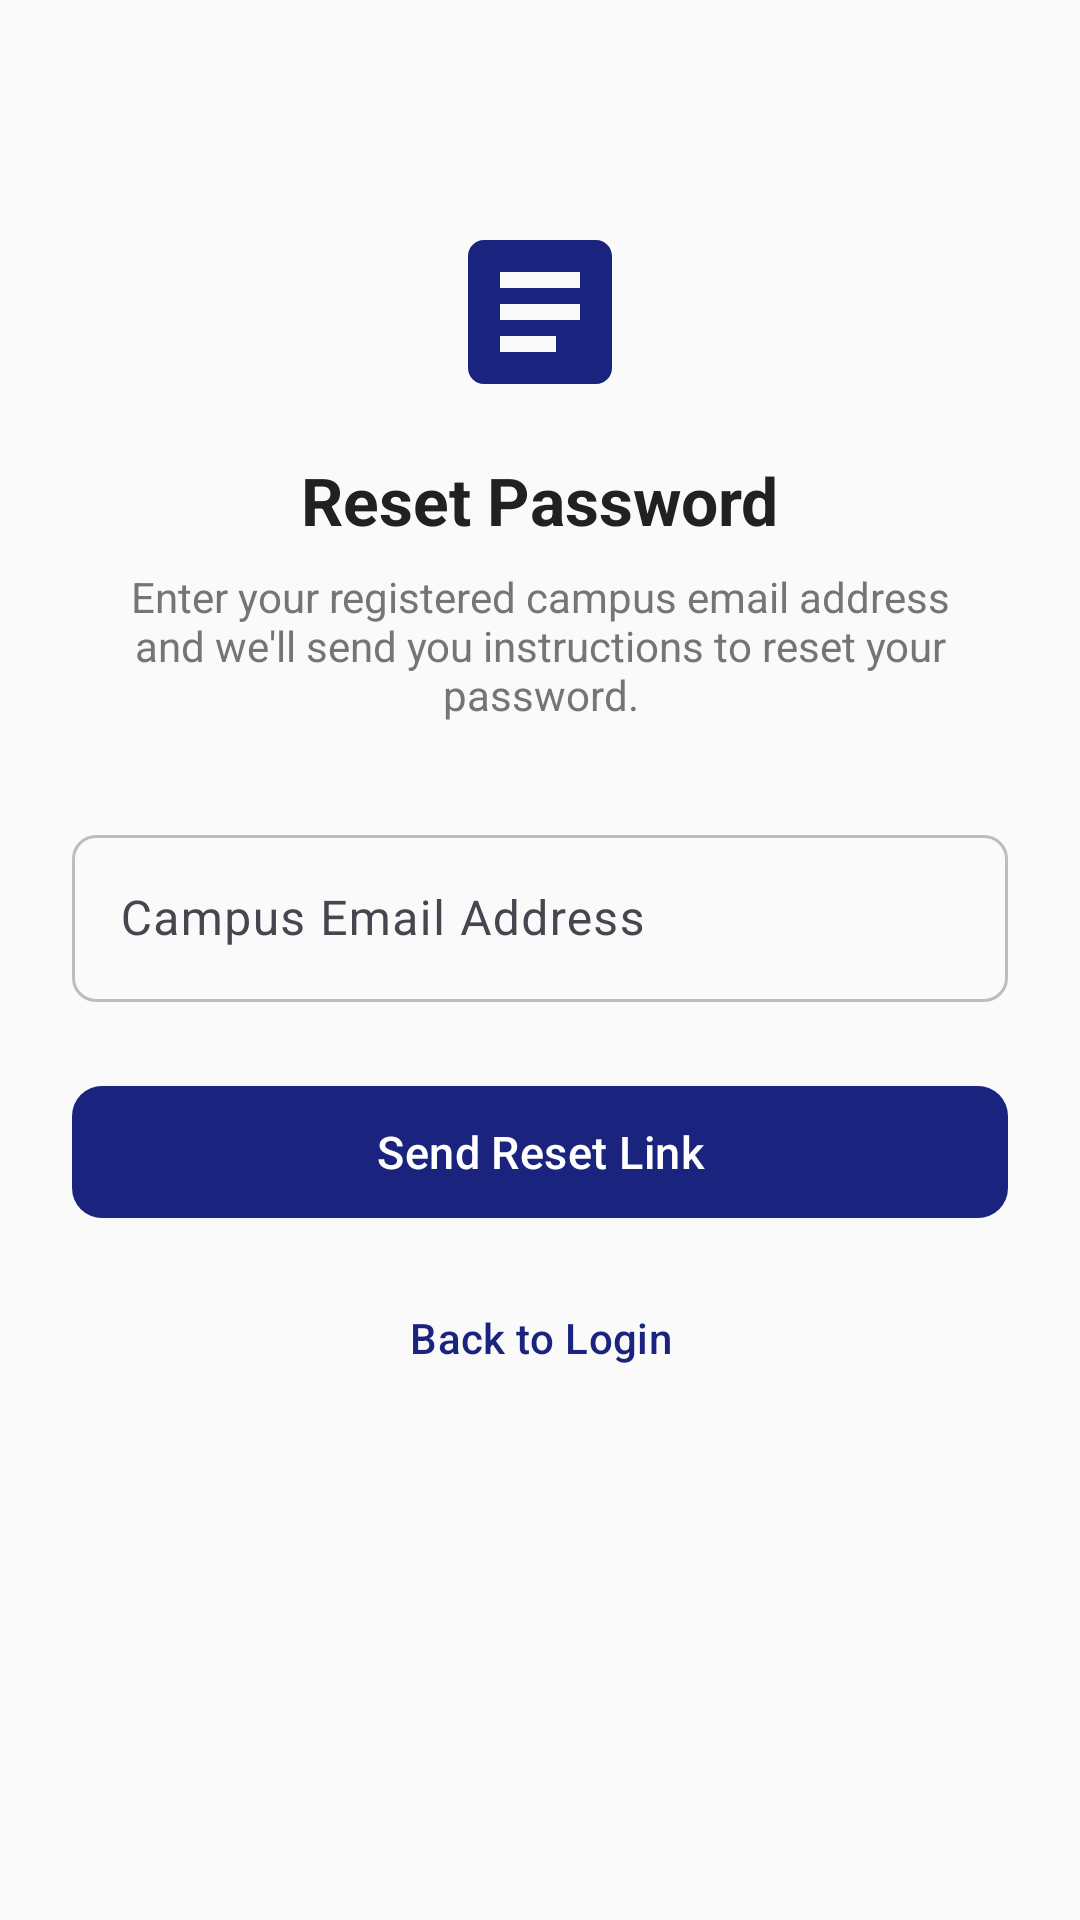

Named icons in this screenshot (1080x1920) and their centers, [x,y]:
order: [540,312]
